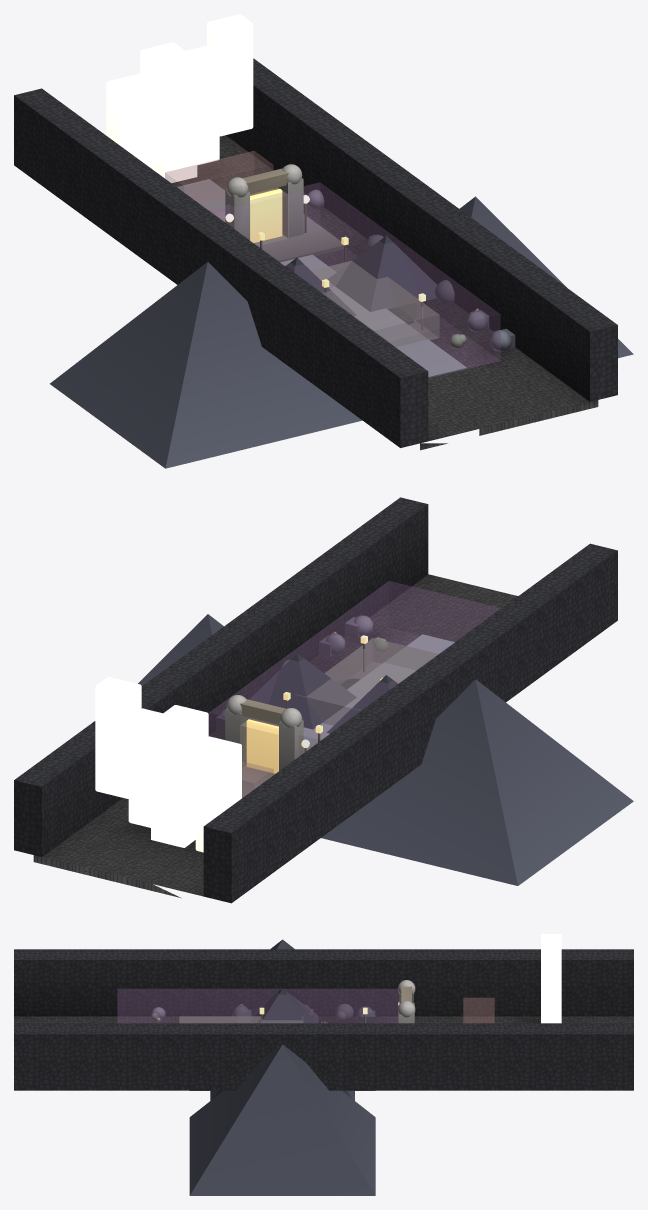
The model's file is wicket_gate.glb.
3 views of the same model, one above another, from view 1: azimuth 30°, elevation 25°; view 2: azimuth 150°, elevation 25°; view 3: azimuth 270°, elevation 25° (orthographic). The views are drawn at different scales.
Visible parts, largest first — view 1: ENV_Wicket_CliffEdges_R, ENV_Wicket_CliffEdges, VIS_PROP_Ridge_Above_L (×2), COL_ArrowPressureZone, VIS_PROP_Distant_CityBeyond (×5), ENV_Wicket_Path, VIS_PROP_Ridge_Above_R (×2), COL_MudZone_Shallow_Gate, ENV_Wicket_Path_Strip, TRIGGER_Exit_CrossAndTomb, ENV_Wicket_GatePlatform, TRIGGER_GateKnock (+4 smaller); view 2: ENV_Wicket_CliffEdges_R, VIS_PROP_Ridge_Above_L (×2), ENV_Wicket_CliffEdges, VIS_PROP_Distant_CityBeyond (×5), COL_ArrowPressureZone, ENV_Wicket_Path, VIS_PROP_Ridge_Above_R (×2), COL_MudZone_Shallow_Gate, ENV_Wicket_Path_Strip, TRIGGER_GateKnock, PROP_GateDoor, VIS_PROP_StonePost_Left (+4 smaller); view 3: ENV_Wicket_CliffEdges, ENV_Wicket_CliffEdges_R, VIS_PROP_Ridge_Above_R, COL_ArrowPressureZone, ENV_Wicket_Path, VIS_PROP_Ridge_Above_L, VIS_PROP_Distant_CityBeyond, TRIGGER_Exit_CrossAndTomb, COL_MudZone_Shallow_Gate.
Boxes of the visible parts, <box> form: ENV_Wicket_CliffEdges_R: <box>14,88,428,447</box>; ENV_Wicket_CliffEdges: <box>226,58,617,401</box>; VIS_PROP_Ridge_Above_L (×2): <box>50,257,362,468</box>; COL_ArrowPressureZone: <box>209,182,500,376</box>; VIS_PROP_Distant_CityBeyond (×5): <box>106,14,253,182</box>; ENV_Wicket_Path: <box>172,135,598,450</box>; VIS_PROP_Ridge_Above_R (×2): <box>328,196,633,358</box>; COL_MudZone_Shallow_Gate: <box>311,261,439,346</box>; ENV_Wicket_Path_Strip: <box>177,179,466,378</box>; TRIGGER_Exit_CrossAndTomb: <box>165,151,273,209</box>; ENV_Wicket_GatePlatform: <box>214,211,343,262</box>; TRIGGER_GateKnock: <box>250,187,288,245</box>; ENV_Wicket_CliffEdges_R: <box>203,543,617,903</box>; VIS_PROP_Ridge_Above_L (×2): <box>321,675,633,885</box>; ENV_Wicket_CliffEdges: <box>14,497,428,856</box>; VIS_PROP_Distant_CityBeyond (×5): <box>95,677,241,852</box>; COL_ArrowPressureZone: <box>209,581,500,755</box>; ENV_Wicket_Path: <box>33,574,517,898</box>; VIS_PROP_Ridge_Above_R (×2): <box>138,614,356,729</box>; COL_MudZone_Shallow_Gate: <box>295,638,438,725</box>; ENV_Wicket_Path_Strip: <box>303,634,454,752</box>; TRIGGER_GateKnock: <box>240,718,278,775</box>; PROP_GateDoor: <box>246,719,278,773</box>; VIS_PROP_StonePost_Left: <box>279,719,303,770</box>; ENV_Wicket_CliffEdges: <box>14,1023,633,1090</box>; ENV_Wicket_CliffEdges_R: <box>14,949,633,1016</box>; VIS_PROP_Ridge_Above_R: <box>189,1044,375,1195</box>; COL_ArrowPressureZone: <box>117,989,399,1022</box>; ENV_Wicket_Path: <box>14,1016,633,1023</box>; VIS_PROP_Ridge_Above_L: <box>210,988,354,1100</box>; VIS_PROP_Distant_CityBeyond: <box>541,951,561,1023</box>; TRIGGER_Exit_CrossAndTomb: <box>463,998,494,1022</box>; COL_MudZone_Shallow_Gate: <box>179,1016,302,1023</box>.
Bounding box in the file's own units: 42 × 18 × 60.
Materials: 34 (2 with a texture image).
